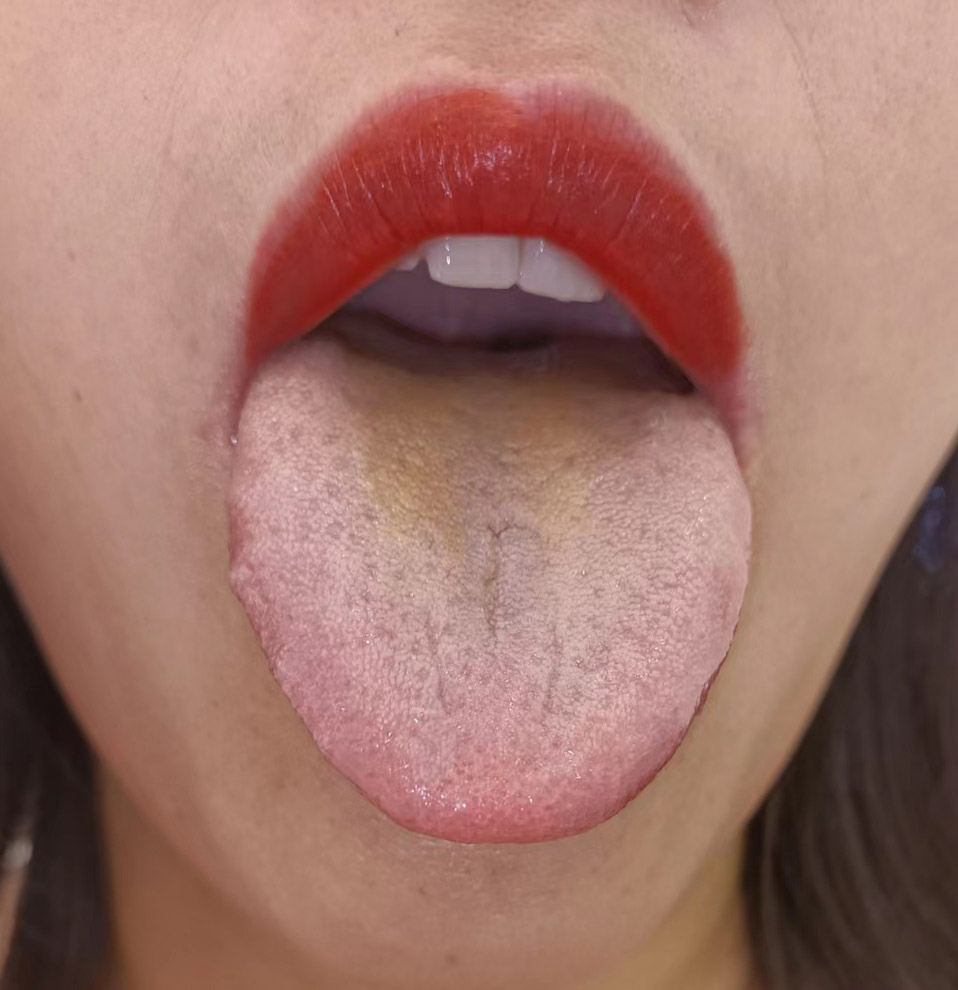chihenshe: (480, 519, 544, 540)
huangtaishe: (228, 313, 749, 844)
